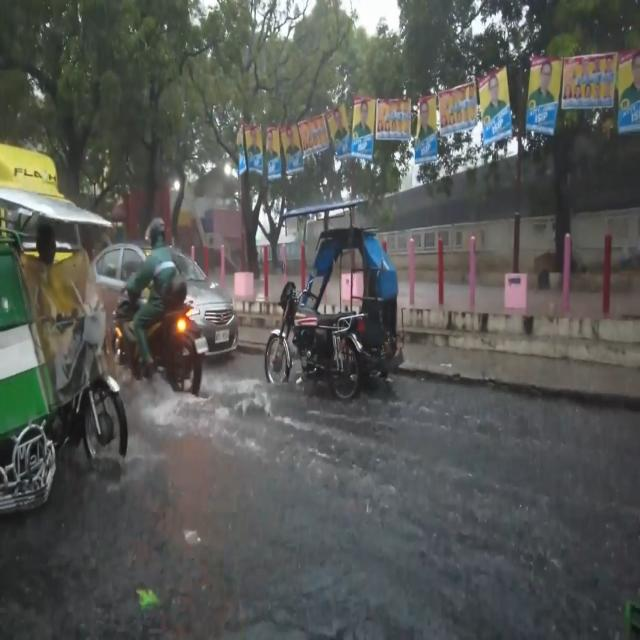full: (144, 216, 165, 248)
